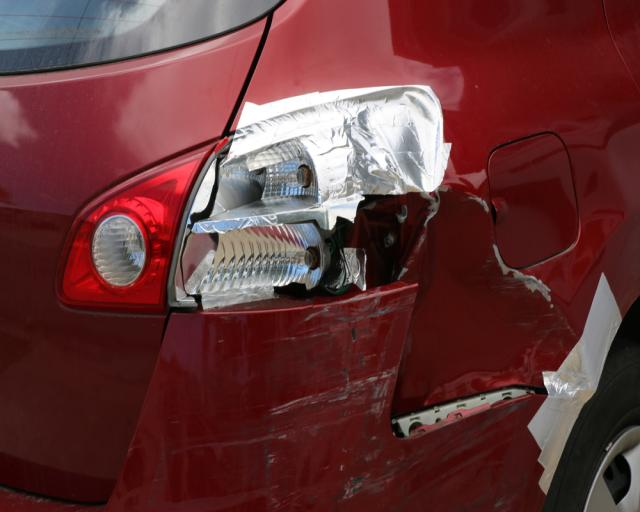dent: (397, 188, 585, 417)
lamp broken: (170, 91, 438, 308)
scratch: (259, 289, 514, 512)
